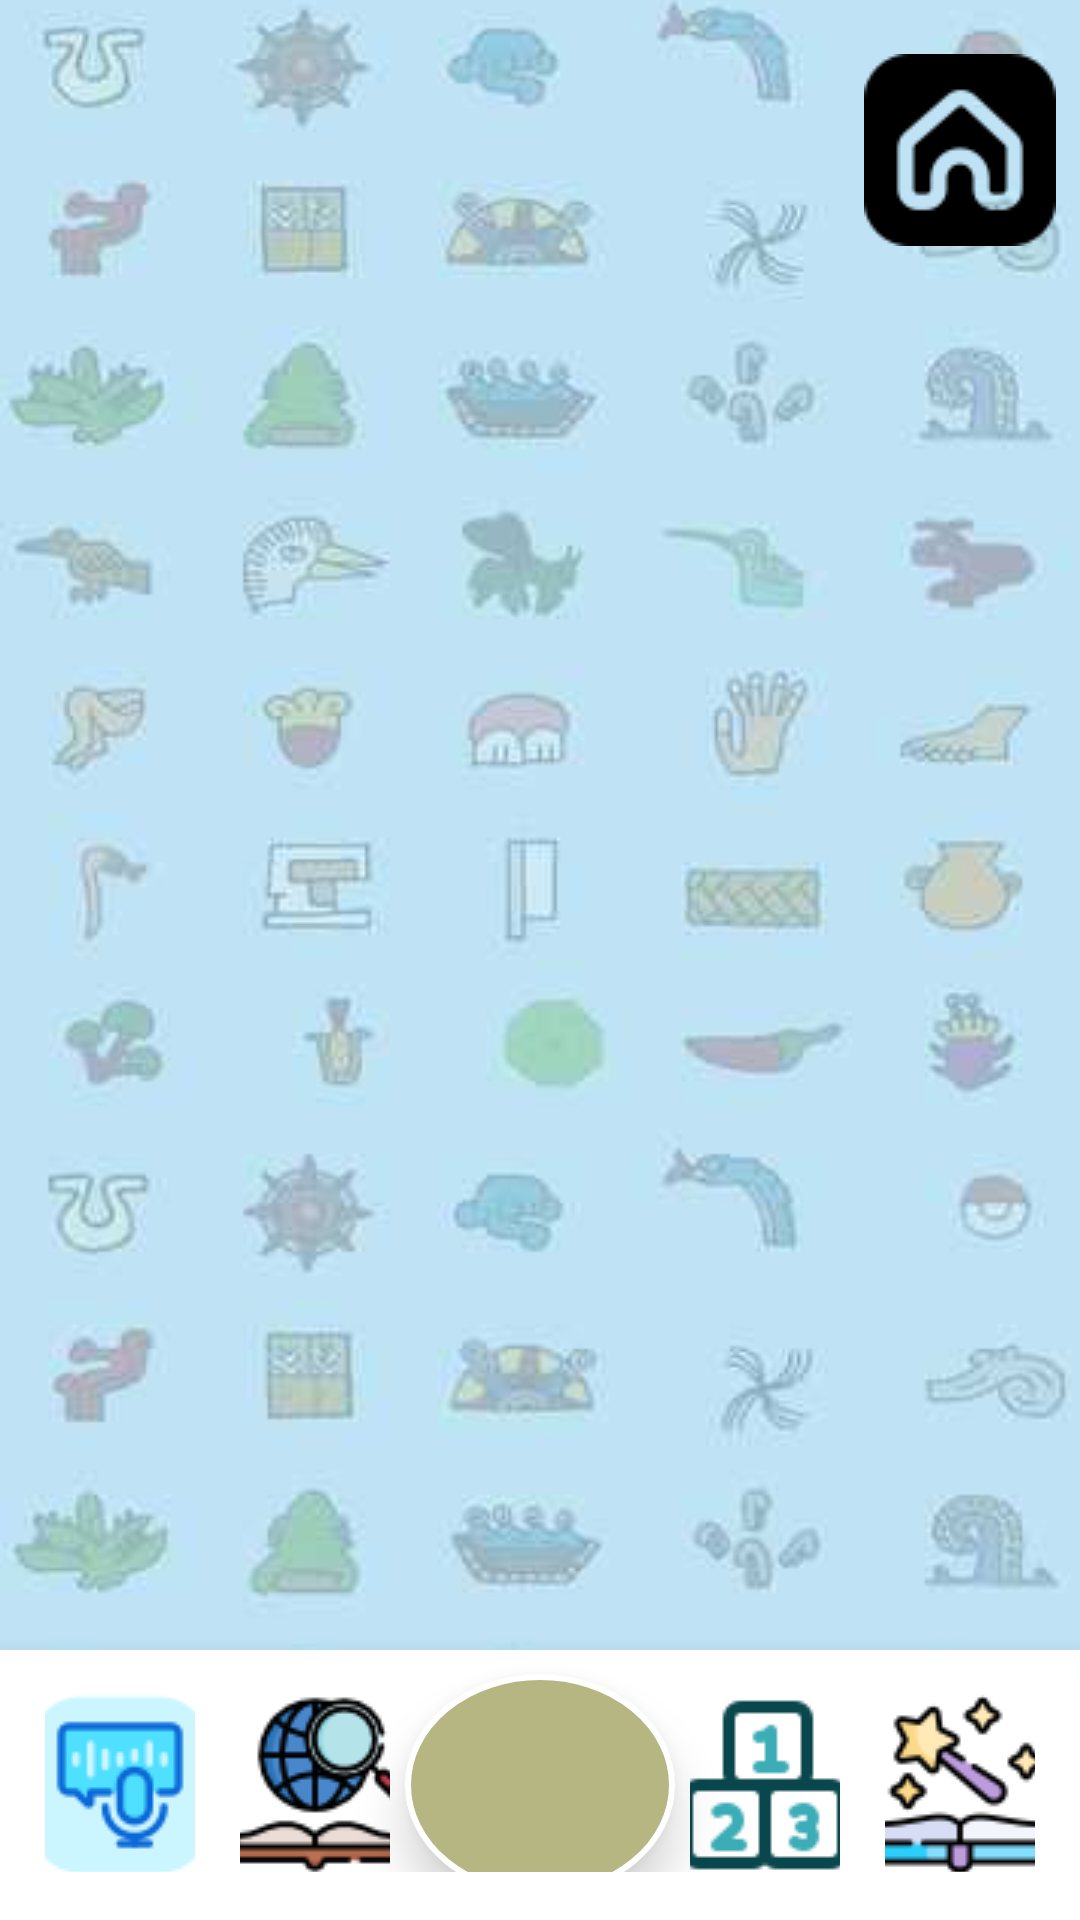

Locate icon controls on the screen. Image size 1080px x 1920px, boxes as (x1=x1, y1=y1, x2=x2, y2=y2).
Inicio: (x1=864, y1=54, x2=1056, y2=246)
mic: (x1=45, y1=1697, x2=195, y2=1872)
num: (x1=690, y1=1700, x2=840, y2=1870)
